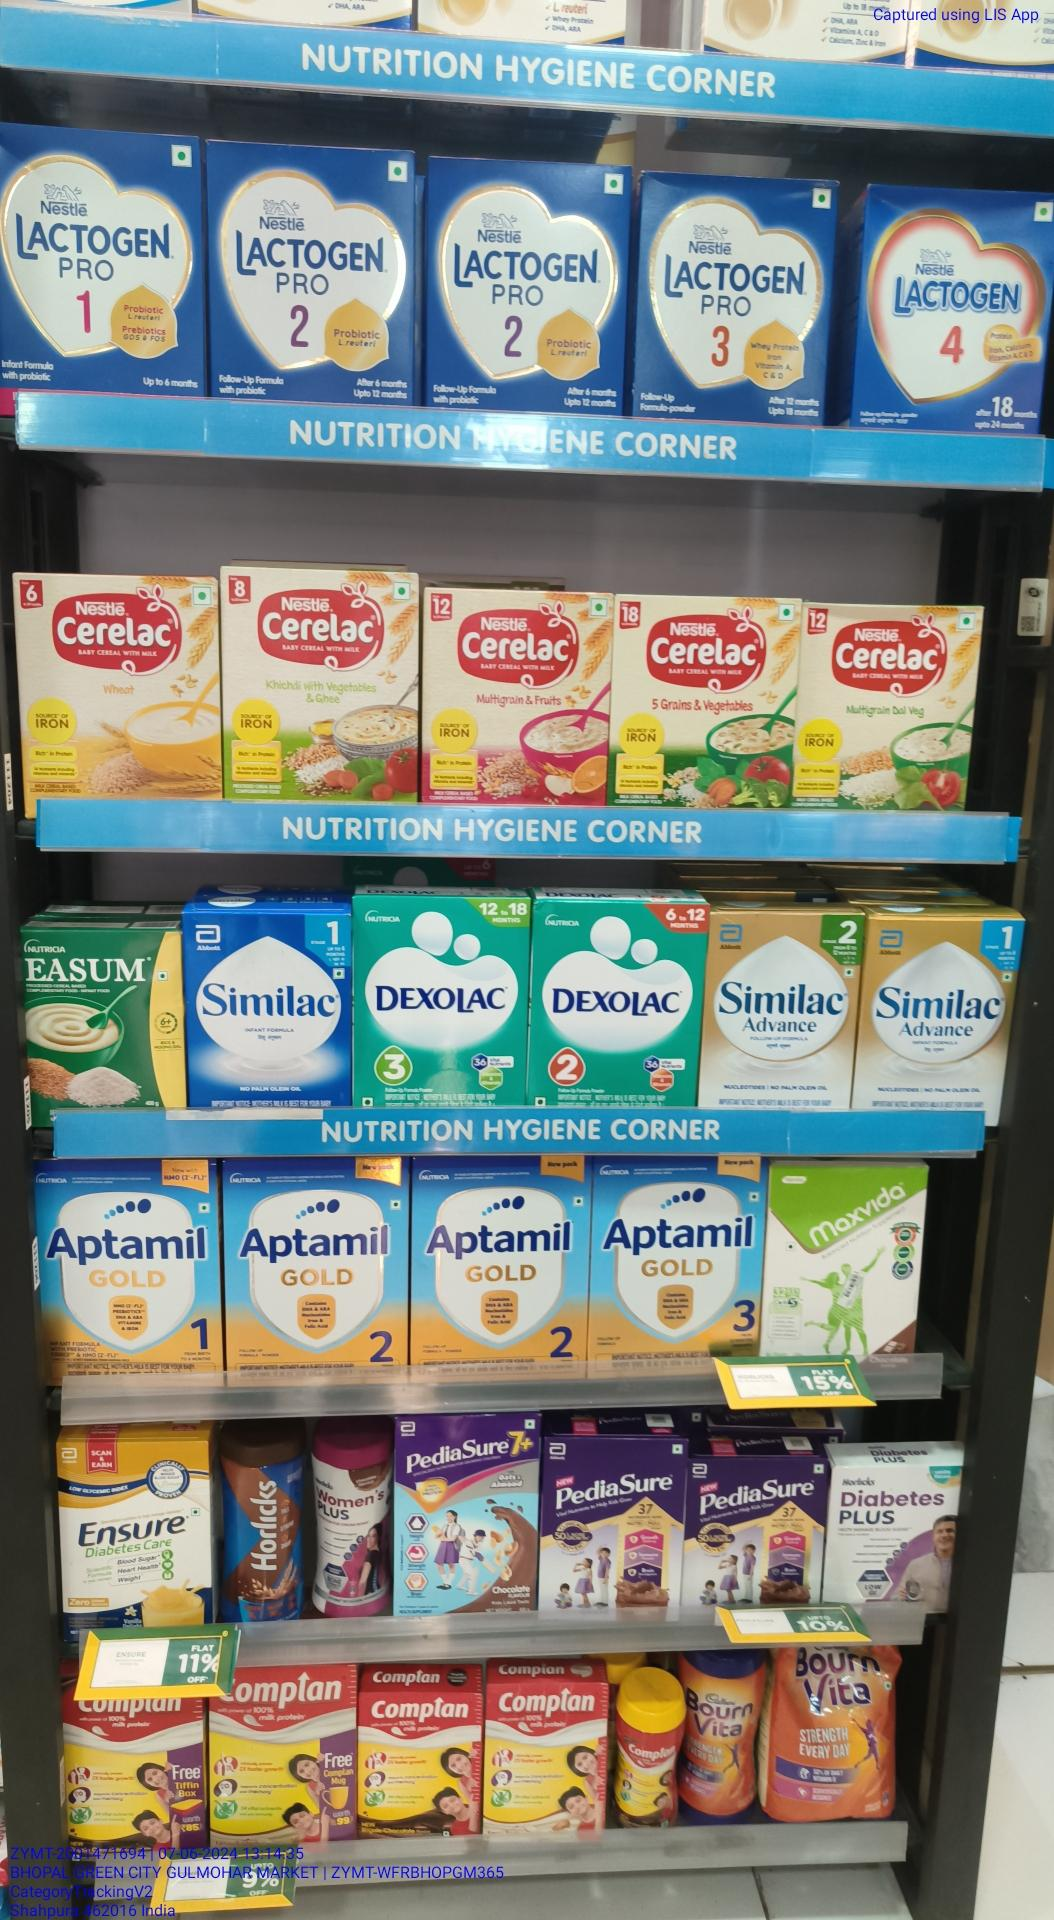BOURN_VITA_500_G_JAR: (687, 1657, 766, 1821)
COMPLAN_CHOCOLATE_200_GMS_JAR: (618, 1694, 680, 1837)
COMPLAN_KESAR_BADAM_200_GMS_PACK: (484, 1679, 598, 1846)
COMPLAN_KESAR_BADAM_500_GMS_PACK: (209, 1671, 361, 1845)
HORLICK_CHOCOLATE_500_G_JAR: (221, 1435, 302, 1623)
PEDIASURE_7_PLUS_CHOCOLATE_400_G_PACK: (395, 1418, 536, 1618)
PEDIASURE_CHOCOLATE_500_G_PACK: (549, 1435, 683, 1622)
